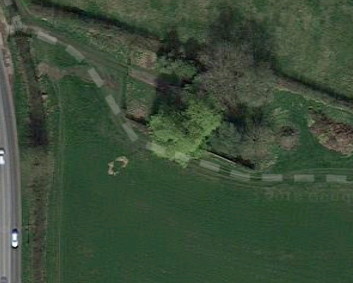tree: (143, 95, 223, 164)
